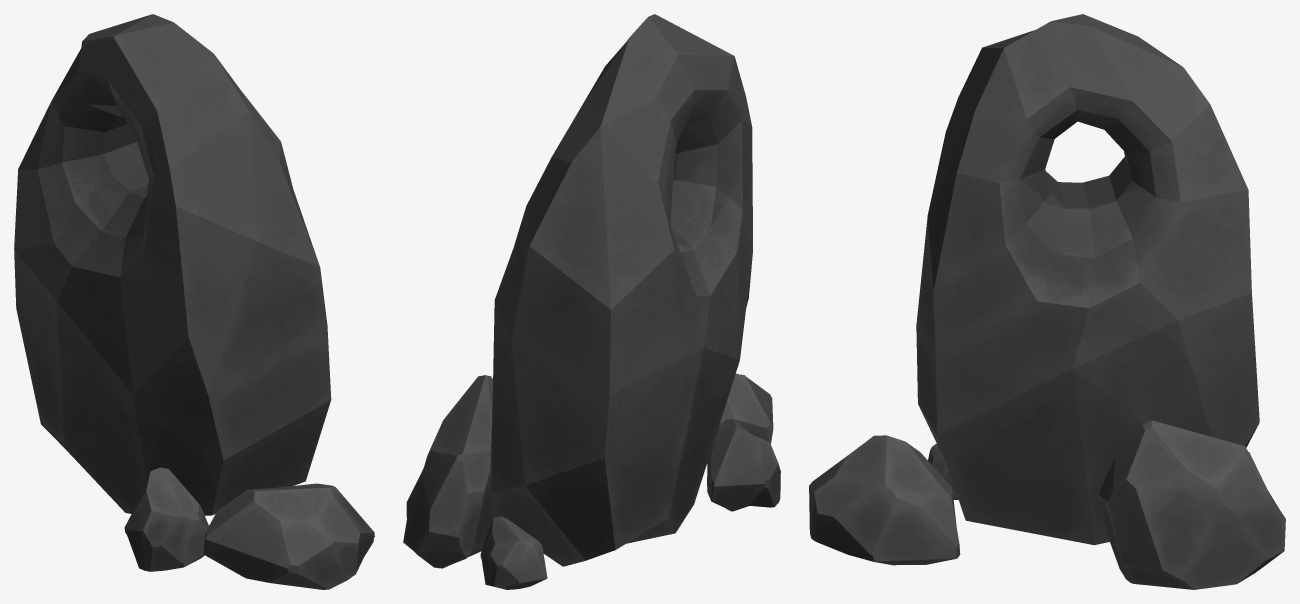
The model's file is MagicStone.fbx.
3 renders of one model, left to right at view 1: azimuth 30°, elevation 25°; view 2: azimuth 150°, elevation 25°; view 3: azimuth 270°, elevation 25°, orthographic. The views are drawn at different scales.
Visible parts, largest first — view 1: Icosphere.036; view 2: Icosphere.036; view 3: Icosphere.036.
Boxes of the visible parts, x1,y1,x2,y2 form: Icosphere.036: (14,14,374,589); Icosphere.036: (403,14,780,589); Icosphere.036: (809,14,1285,589).
Bounding box in the file's own units: 92.54 × 170 × 147.
